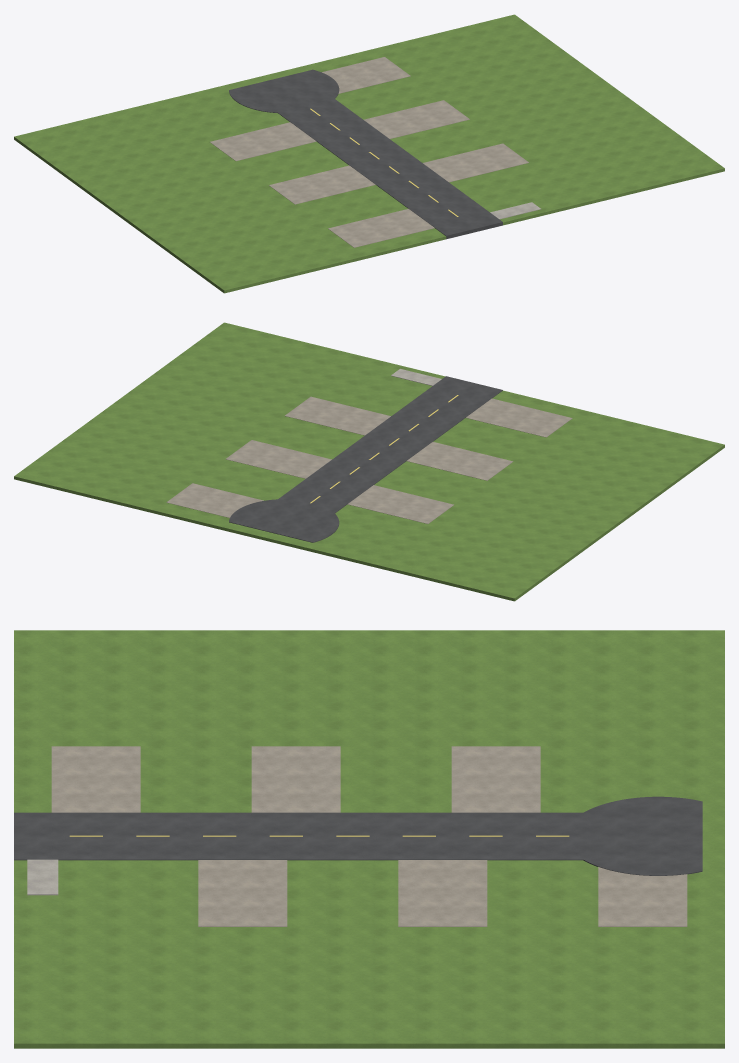
Rendered from site.glb.
The picture shows the model from 3 angles, top to bottom: view 1: azimuth 30°, elevation 25°; view 2: azimuth 150°, elevation 25°; view 3: azimuth 270°, elevation 25°; orthographic projection. The views are drawn at different scales.
Visible parts, largest first — view 1: site_grass, site_asphalt, site_gravel; view 2: site_grass, site_asphalt, site_gravel; view 3: site_grass, site_asphalt, site_gravel, site_concrete.
Part boxes in pixels (x1,y1,x2,y2): site_grass: (14,14,724,293); site_asphalt: (229,69,502,239); site_gravel: (210,57,528,247); site_grass: (14,322,724,601); site_asphalt: (229,376,502,542); site_gravel: (166,396,572,523); site_grass: (14,630,724,1048); site_asphalt: (14,796,702,875); site_gravel: (51,746,687,926); site_concrete: (27,859,58,895).
Size of the model in its own units: 44 by 0.293 by 32.
Materials: 5 (4 with a texture image).
